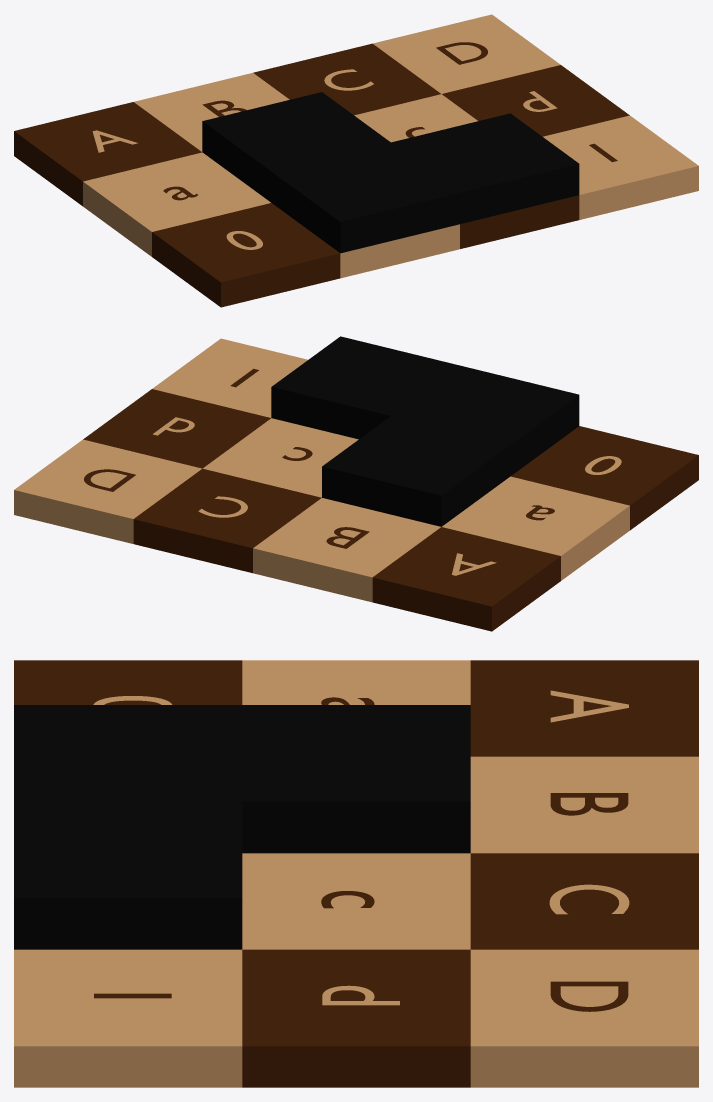
The model's file is board.obj.
The picture shows the model from 3 angles, top to bottom: view 1: azimuth 30°, elevation 25°; view 2: azimuth 150°, elevation 25°; view 3: azimuth 270°, elevation 25°; orthographic projection. The views are drawn at different scales.
Parts seen in each view (by area): view 1: Block_0_0; view 2: Block_0_0; view 3: Block_0_0.
Boxes of the visible parts, left/top/right/bottom form: Block_0_0: left=14, top=14, right=698, bottom=307; Block_0_0: left=14, top=336, right=698, bottom=631; Block_0_0: left=14, top=660, right=698, bottom=1087.
Size of the model in its own units: 0.4 by 0.045 by 0.3.
